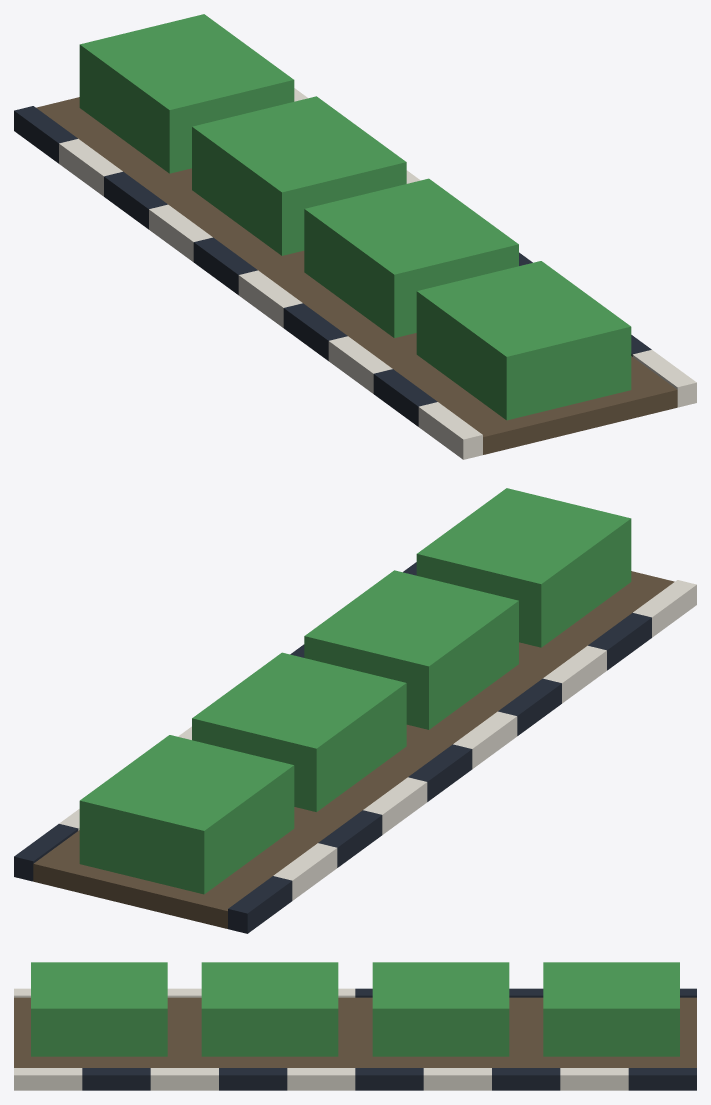
Rendered from median_segment.glb.
3 views of the same model, one above another, from view 1: azimuth 30°, elevation 25°; view 2: azimuth 150°, elevation 25°; view 3: azimuth 270°, elevation 25° (orthographic). The views are drawn at different scales.
Visible parts, largest first — view 1: median; view 2: median; view 3: median.
Part boxes in pixels (x1,y1,x2,y2): median: [14, 14, 696, 459]; median: [14, 488, 696, 933]; median: [14, 962, 696, 1090].
Bounding box in the file's own units: 3 × 1 × 10.
